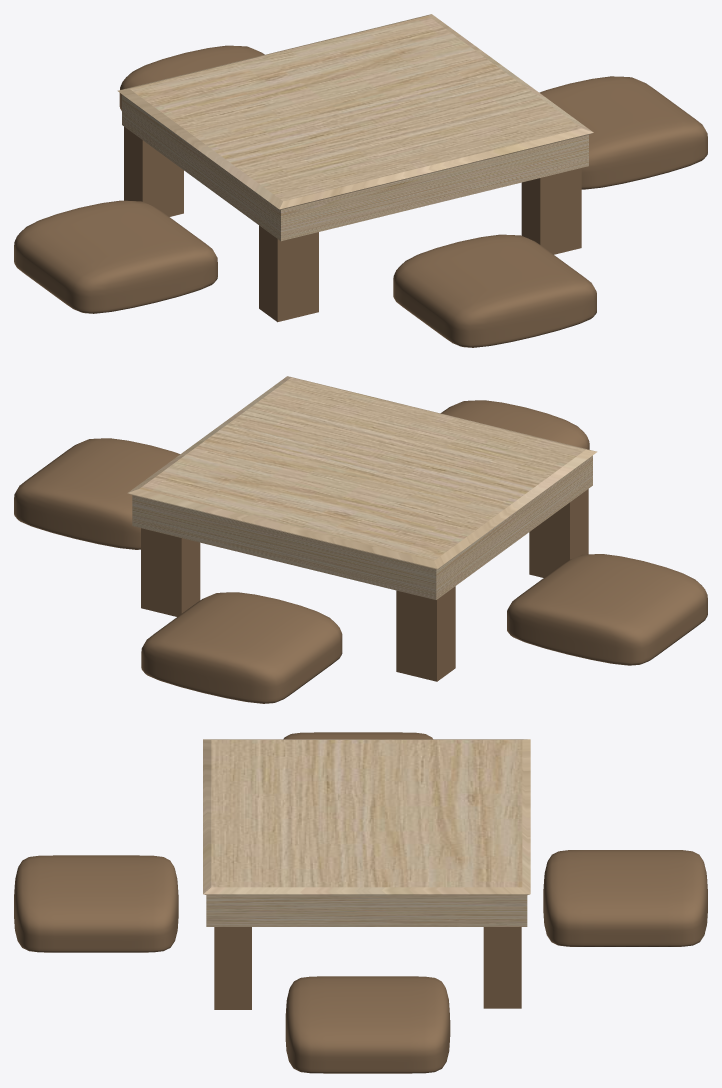
File: Meja & Bantal Lesehan.fbx
3 views of the same model, one above another, from view 1: azimuth 30°, elevation 25°; view 2: azimuth 150°, elevation 25°; view 3: azimuth 270°, elevation 25° (orthographic). The views are drawn at different scales.
Parts seen in each view (by area): view 1: Meja; view 2: Meja; view 3: Meja.
Boxes of the visible parts, x1,y1,x2,y2 form: Meja: (14,14,707,347); Meja: (14,376,707,703); Meja: (14,732,707,1073).
Size of the model in its own units: 650 by 118 by 606.
